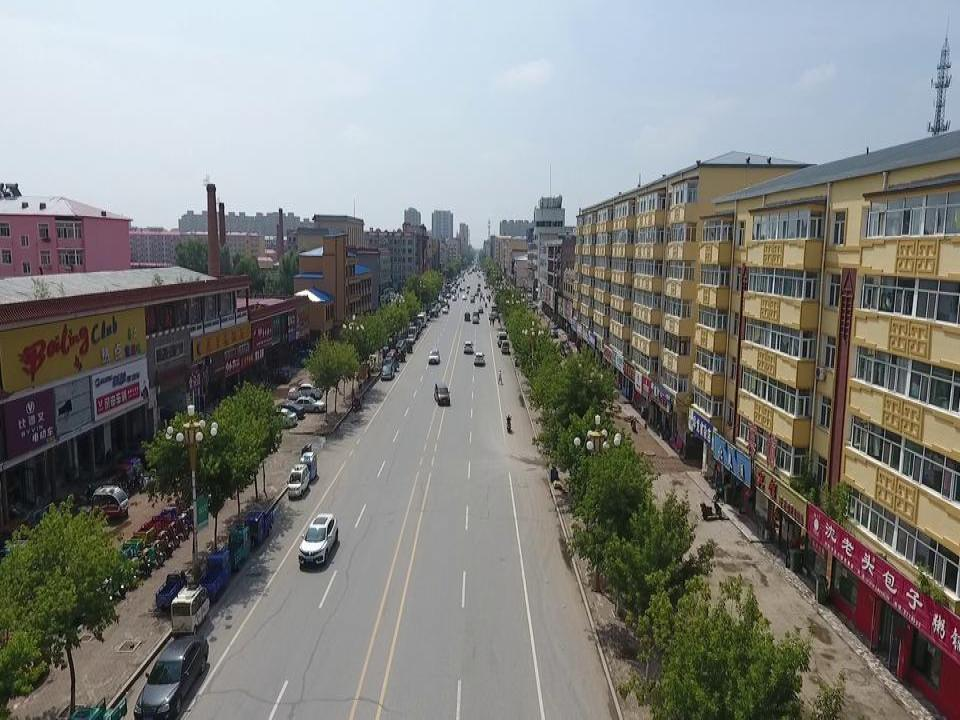car: (133, 633, 209, 720), (298, 514, 339, 566), (286, 464, 309, 499), (264, 407, 297, 428), (287, 382, 321, 398), (299, 451, 317, 481), (290, 396, 325, 411), (269, 402, 304, 417), (434, 381, 450, 406), (380, 363, 395, 380), (428, 348, 440, 364), (474, 352, 485, 365), (463, 342, 473, 354), (464, 312, 470, 321), (492, 305, 498, 312), (489, 312, 494, 320), (473, 316, 478, 323), (473, 311, 478, 317), (478, 308, 483, 313), (493, 312, 498, 317)
van: (496, 332, 507, 348), (501, 340, 509, 353)
